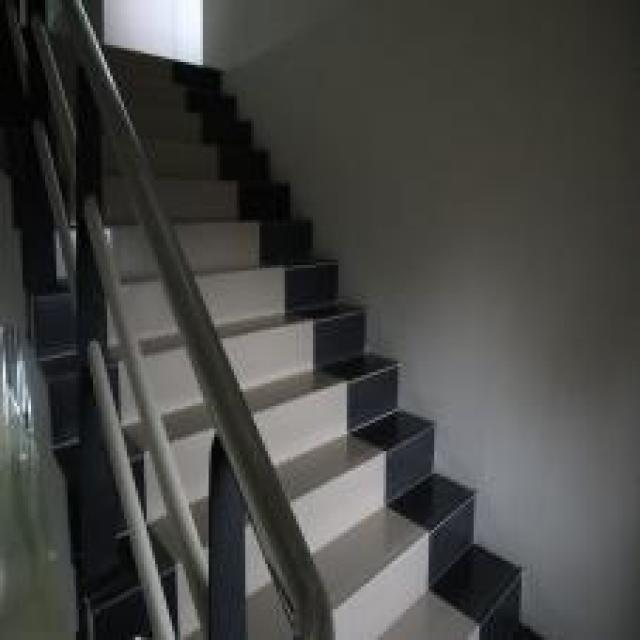upstair: (325, 359, 517, 638)
